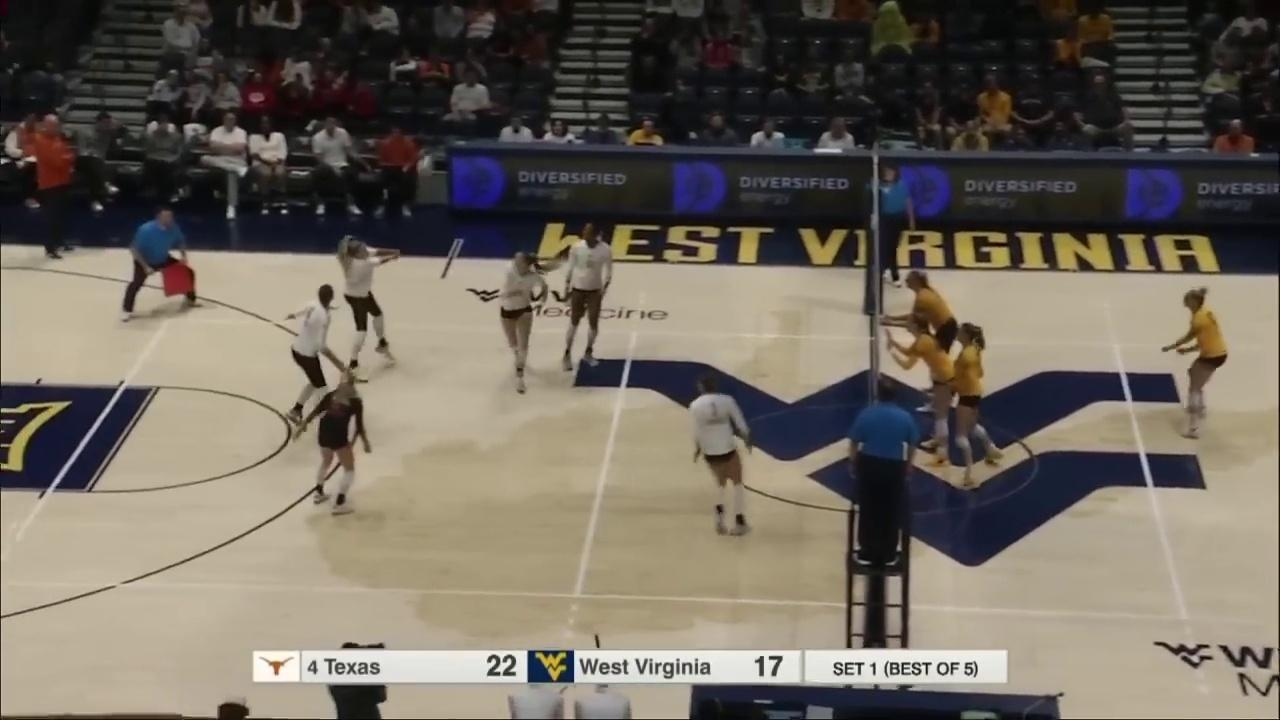player: (888, 316, 956, 465), (693, 374, 753, 535), (1163, 287, 1227, 435), (339, 235, 404, 380), (891, 273, 957, 410), (306, 372, 370, 513), (284, 285, 347, 427), (955, 325, 1004, 489), (563, 221, 615, 369), (499, 250, 548, 393)
refree: (852, 381, 918, 565), (120, 207, 203, 323), (875, 167, 913, 285)
